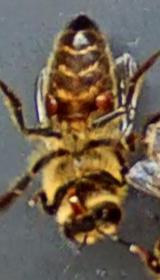varroa_mite: (78, 84, 132, 118), (30, 88, 62, 119)
